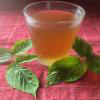Raspberry leaf: (43, 57, 88, 89), (5, 62, 40, 99), (68, 33, 95, 58), (11, 38, 35, 57), (14, 54, 43, 63), (0, 46, 13, 64)
